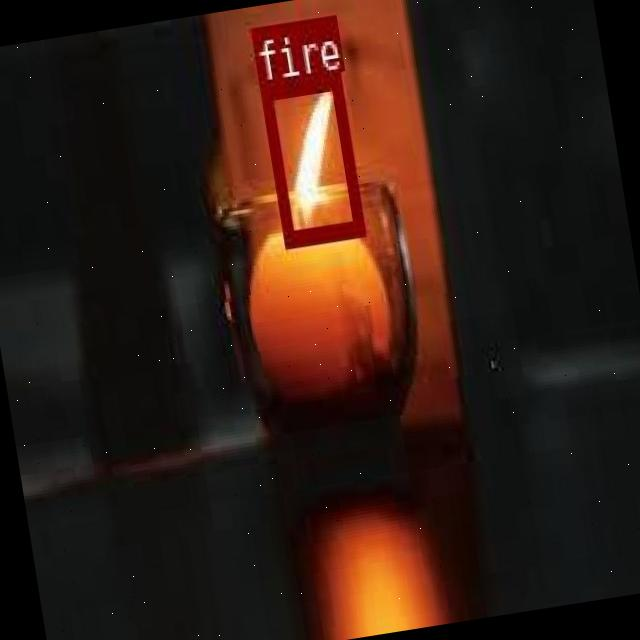fire: (258, 72, 362, 245)
